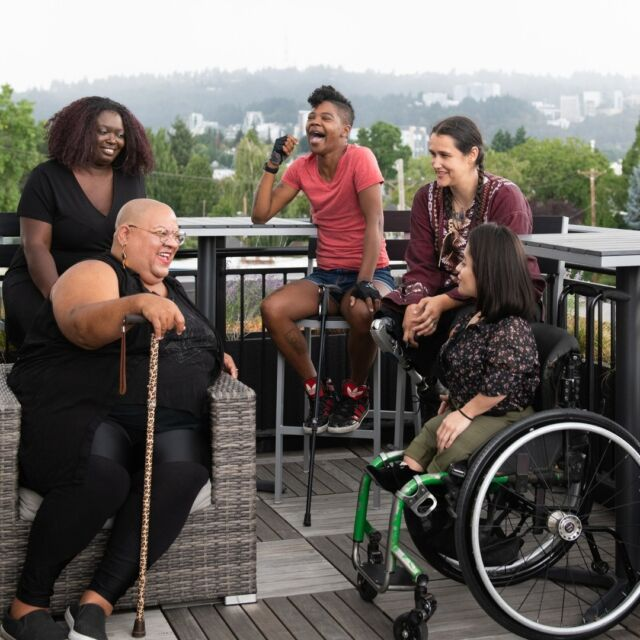wheelchair: (346, 222, 640, 640)
